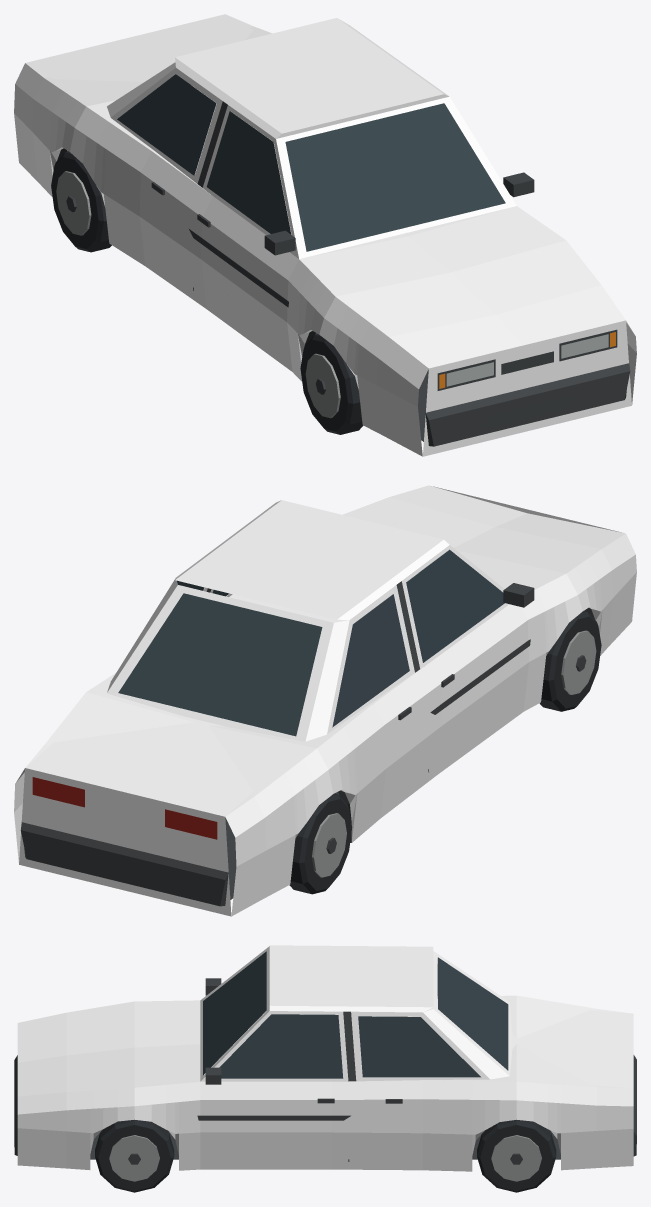
File: hayase_kumo.glb
3 renders of one model, top to bottom at view 1: azimuth 30°, elevation 25°; view 2: azimuth 150°, elevation 25°; view 3: azimuth 270°, elevation 25°, orthographic. The views are drawn at different scales.
Visible parts, largest first — view 1: hayase_kumo; view 2: hayase_kumo; view 3: hayase_kumo.
Boxes of the visible parts, box(x1,y1,x2,y2) form: hayase_kumo: box(14, 14, 636, 456); hayase_kumo: box(14, 485, 636, 916); hayase_kumo: box(14, 945, 636, 1192).
Size of the model in its own units: 1.78 by 1.44 by 4.76.
8 materials, 1 textured.
